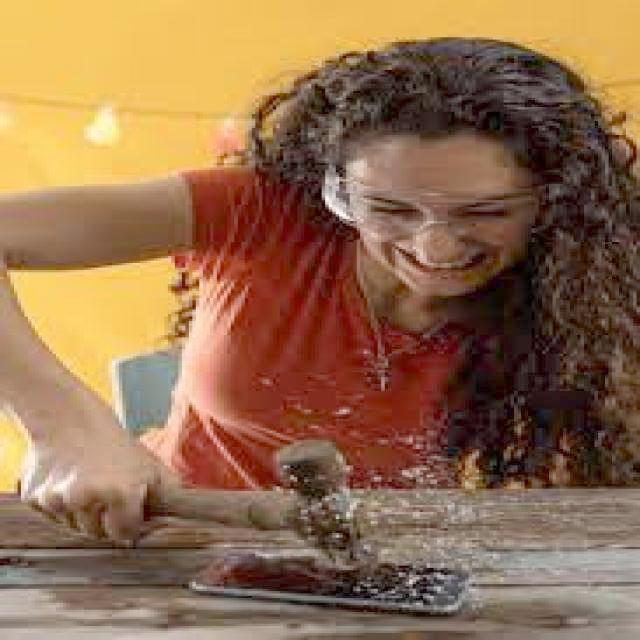hammer: (7, 429, 406, 567)
